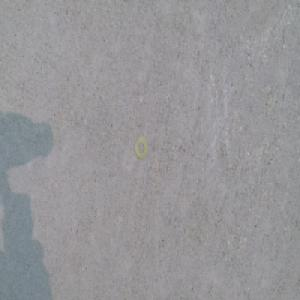Washer: (134, 135, 148, 159)
